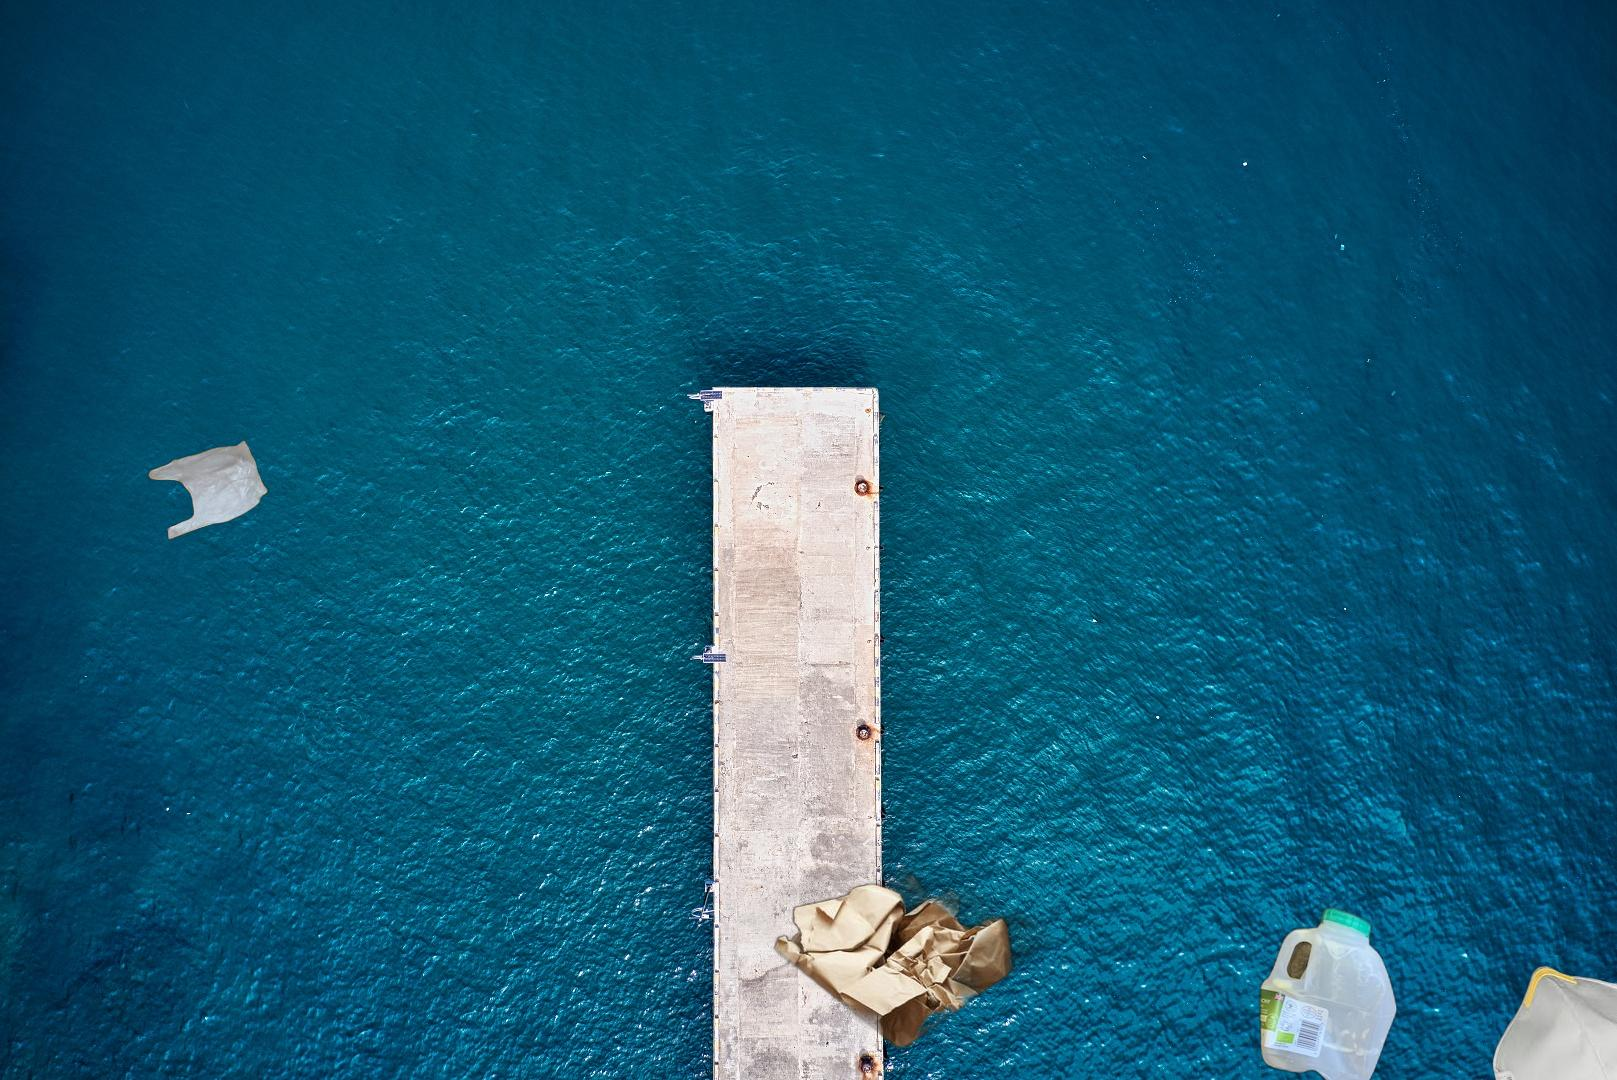plastic-bag: (145, 438, 270, 542)
plastic-bottles: (1256, 900, 1617, 1080)
trash: (1460, 957, 1617, 1080)
trashbox-cardboard: (590, 797, 1157, 1080)
